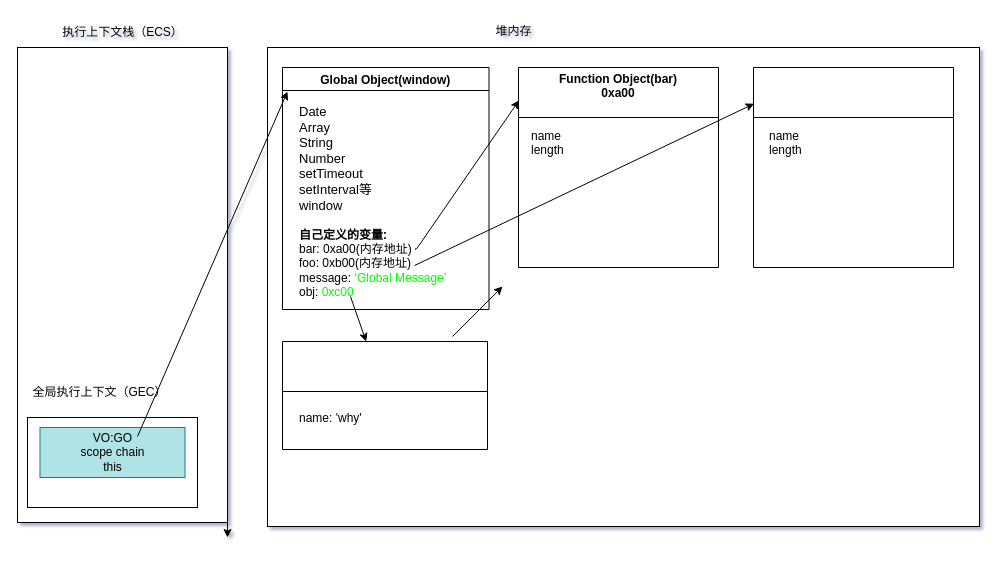
Some shapes in this 1003 by 569 pixel diagram are drawn without their labels. The shapes that lost their labels are listed below. From the top down, each one's box as (x1, y1, x2, y2) in pixels, then its label:
(752, 66, 954, 268): Function Object(foo) 0xb00
(282, 340, 488, 450): obj对象 0xc00
